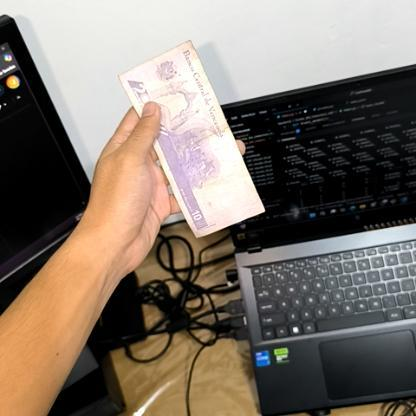ten-back-vef: (117, 39, 266, 238)
